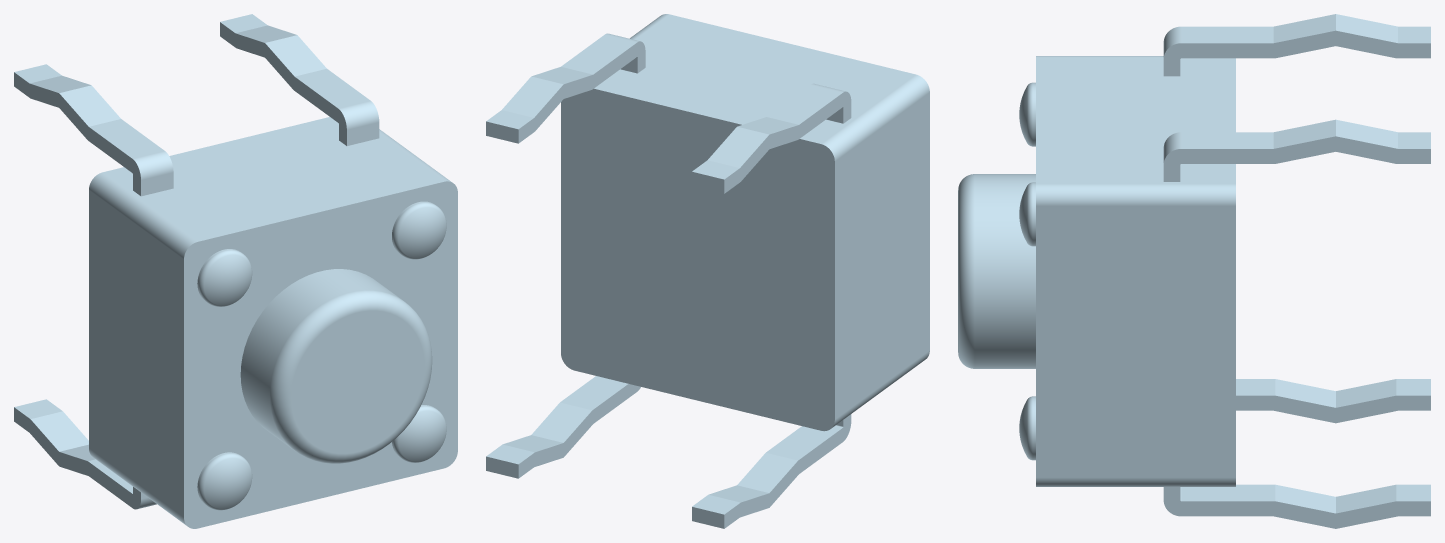
The picture shows the model from 3 angles, left to right: view 1: azimuth 30°, elevation 25°; view 2: azimuth 150°, elevation 25°; view 3: azimuth 270°, elevation 25°; orthographic projection. The views are drawn at different scales.
Visible parts, largest first — view 1: mesh92721, mesh92728, mesh92772, mesh92718, mesh92719, mesh92720, mesh92727, mesh92799, mesh92783, mesh92753, mesh92734, mesh92737 (+20 smaller); view 2: mesh92723, mesh92728, mesh92772, mesh92727, mesh92783, mesh92799, mesh92753, mesh92767, mesh92801, mesh92776, mesh92778, mesh92797 (+13 smaller); view 3: mesh92725, mesh92772, mesh92720, mesh92798, mesh92768, mesh92784, mesh92726, mesh92719, mesh92752, mesh92724, mesh92801, mesh92776 (+14 smaller).
Boxes of the visible parts, bbox=[...] form: mesh92721: bbox=[184, 181, 457, 528]; mesh92728: bbox=[89, 190, 183, 517]; mesh92772: bbox=[103, 117, 443, 241]; mesh92718: bbox=[291, 311, 424, 453]; mesh92719: bbox=[269, 290, 432, 463]; mesh92720: bbox=[240, 269, 401, 449]; mesh92727: bbox=[89, 172, 197, 259]; mesh92799: bbox=[14, 72, 140, 195]; mesh92783: bbox=[220, 22, 346, 145]; mesh92753: bbox=[14, 407, 140, 509]; mesh92734: bbox=[204, 254, 251, 305]; mesh92737: bbox=[204, 458, 251, 508]; mesh92723: bbox=[561, 88, 834, 431]; mesh92728: bbox=[835, 92, 929, 419]; mesh92772: bbox=[594, 14, 915, 143]; mesh92727: bbox=[821, 74, 929, 161]; mesh92783: bbox=[518, 41, 645, 143]; mesh92799: bbox=[724, 91, 851, 193]; mesh92753: bbox=[724, 414, 851, 528]; mesh92767: bbox=[518, 384, 640, 478]; mesh92801: bbox=[767, 85, 842, 124]; mesh92776: bbox=[561, 34, 636, 74]; mesh92778: bbox=[502, 76, 563, 117]; mesh92797: bbox=[708, 126, 768, 167]; mesh92725: bbox=[1036, 206, 1235, 477]; mesh92772: bbox=[1036, 57, 1235, 183]; mesh92720: bbox=[974, 174, 1035, 368]; mesh92798: bbox=[1163, 30, 1430, 76]; mesh92768: bbox=[1163, 487, 1430, 528]; mesh92784: bbox=[1163, 136, 1430, 181]; mesh92726: bbox=[1036, 184, 1235, 205]; mesh92719: bbox=[958, 174, 974, 368]; mesh92752: bbox=[1236, 395, 1430, 423]; mesh92724: bbox=[1036, 477, 1235, 486]; mesh92801: bbox=[1181, 26, 1273, 43]; mesh92776: bbox=[1181, 132, 1273, 148].
Size of the model in its own units: 0.00599 by 0.0078 by 0.00851.
